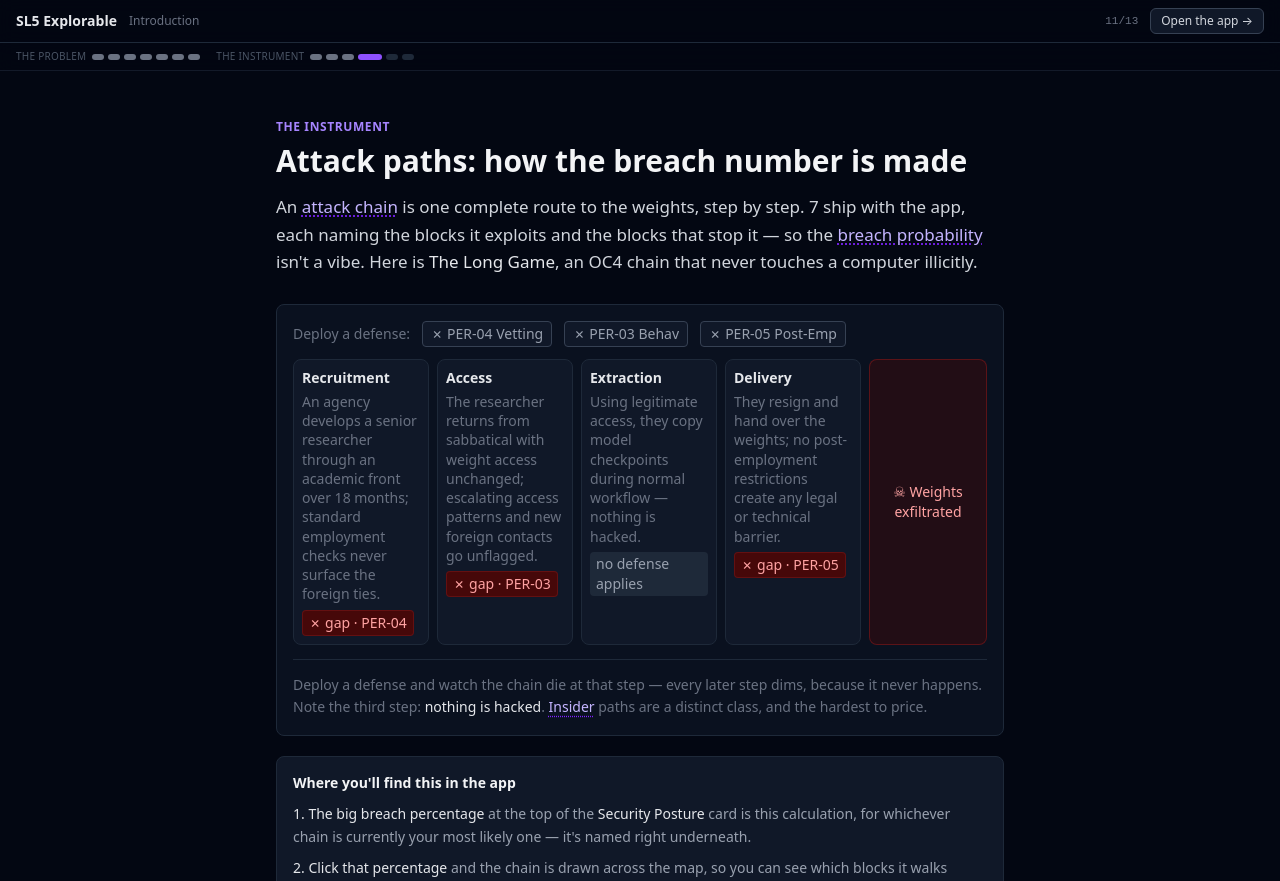
Test: the demos respond › deploying a later-step defense still lets the earlier steps succeed
Click the button "✗ PER-05 Post-Emp" at (773, 334), box 700,321 -> 846,347
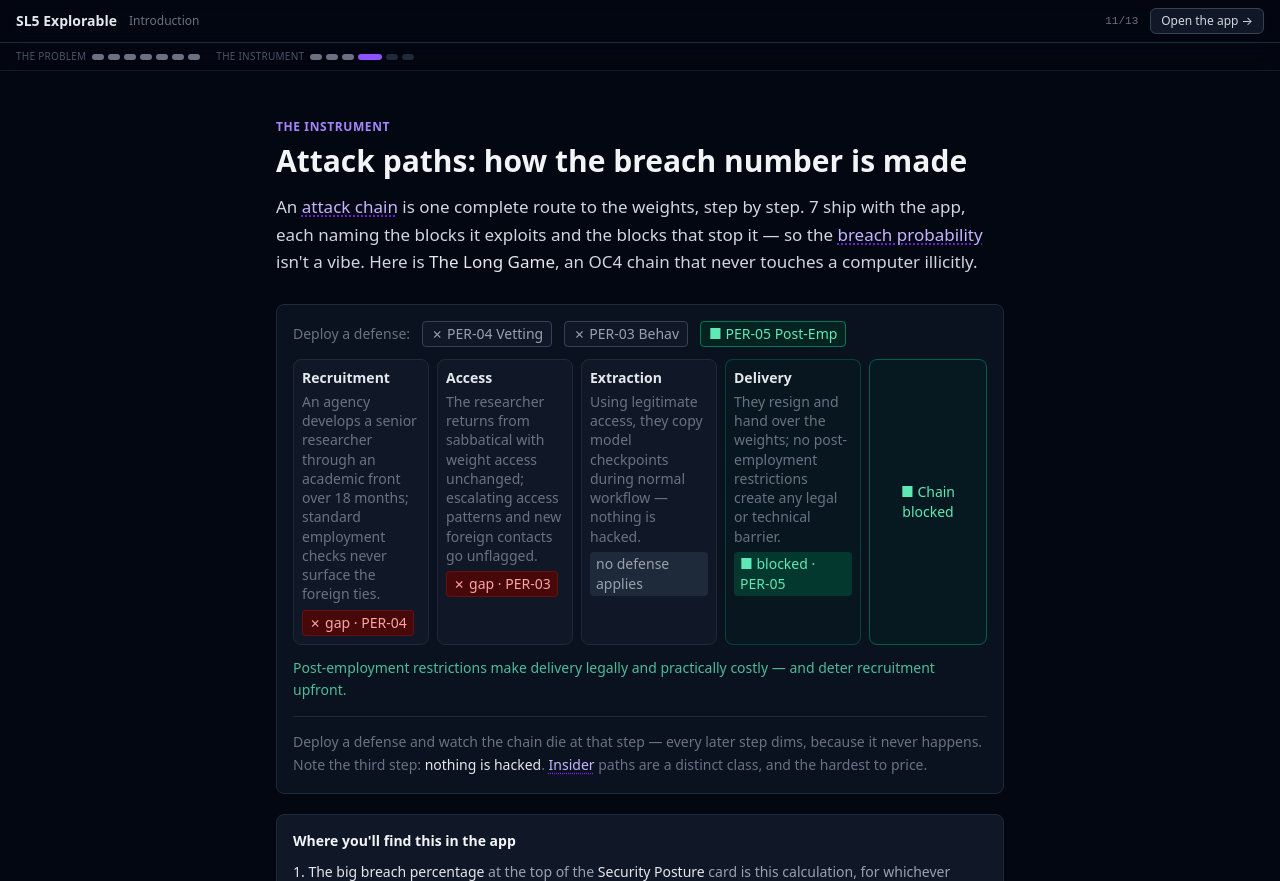
Check: the text "■ Chain blocked" is shown, box 869,359 -> 987,645
Check: the text "Post-employment restrictions make delivery legally and practically costly — and deter recruitment upfront." is shown, box 293,658 -> 935,699
